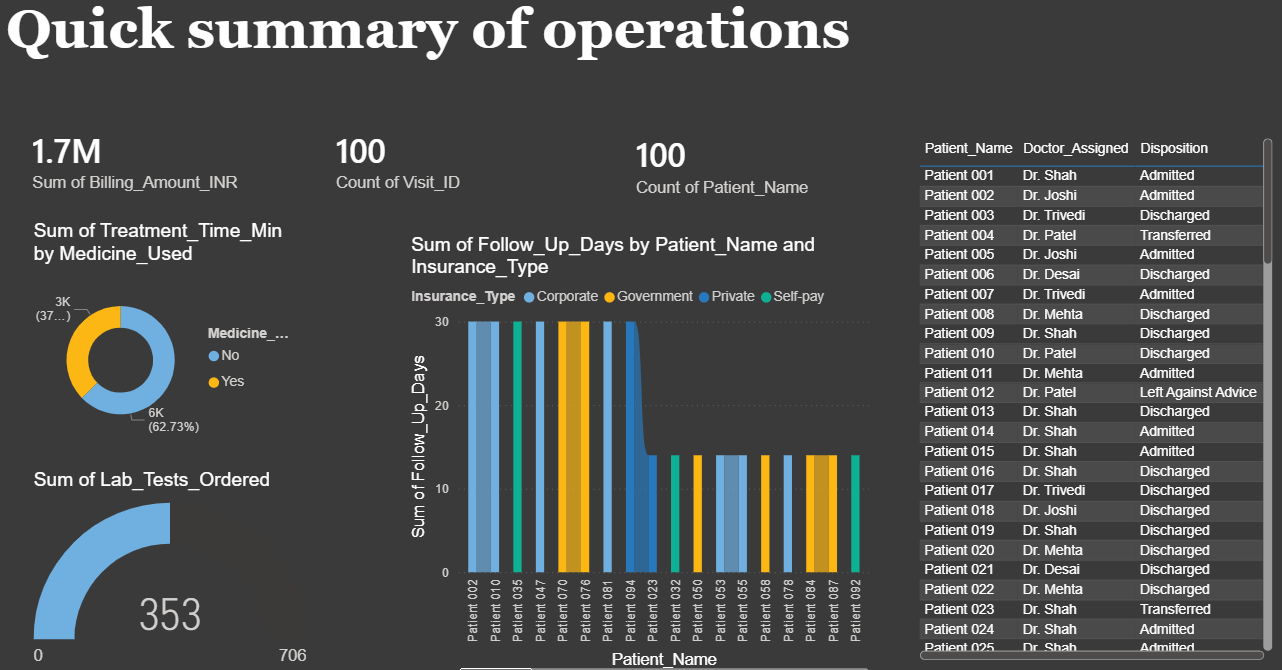

Layout of this report page (visuals, bound fields, positions):
{"tool":"powerbi","page":{"name":"Page 1","canvas":[1280,720],"ordinal":0},"visuals":[{"type":"textbox","box":[10,0,279.8,108.5],"z":0},{"type":"textbox","box":[10,54.2,1231.8,79.9],"z":1000},{"type":"cardVisual","fields":{"Data":["Sum(Sheet1 (2).Billing_Amount_INR)"]},"box":[9.9,155.3,259.7,118.1],"z":2000},{"type":"cardVisual","box":[9.9,376.5,259.7,149.1],"z":3000},{"type":"cardVisual","fields":{"Data":["Count(Sheet1 (2).Visit_ID)"]},"box":[303.2,155.3,259.7,118.1],"z":4000},{"type":"cardVisual","fields":{"Data":["CountNonNull(Sheet1 (2).Patient_Name)"]},"box":[592.8,166.5,228.7,106.9],"z":5000},{"type":"ribbonChart","fields":{"Category":["Sheet1 (2).Patient_Name"],"Series":["Sheet1 (2).Insurance_Type"],"Y":["Sum(Sheet1 (2).Follow_Up_Days)"]},"box":[400.2,287.1,452.3,432.5],"z":6000},{"type":"gauge","fields":{"Y":["Sum(Sheet1 (2).Lab_Tests_Ordered)"]},"box":[36,514.5,273.4,205],"z":7000},{"type":"donutChart","fields":{"Series":["Sheet1 (2).Medicine_Used"],"Y":["Sum(Sheet1 (2).Treatment_Time_Min)"]},"box":[36,273.4,267.2,229.9],"z":8000},{"type":"slicer","fields":{"Values":["Sheet1.Admission_Ward","Sheet1.Patient_Name","Sheet1.Bed_Occupied"]},"box":[872.3,133.9,377.6,556.2],"z":9000}]}

Visuals, with their boxes on the page's 1280x720 design canvas (x1, y1, x2, y2). These are canvas units, not pixel positions in the 1282x670 screenshot, which may show the page scaled, cropped or inside an application window:
textbox: {"left": 10, "top": 0, "right": 290, "bottom": 108}
textbox: {"left": 10, "top": 54, "right": 1242, "bottom": 134}
cardVisual - Sum(Sheet1 (2).Billing_Amount_INR): {"left": 10, "top": 155, "right": 270, "bottom": 273}
cardVisual: {"left": 10, "top": 376, "right": 270, "bottom": 526}
cardVisual - Count(Sheet1 (2).Visit_ID): {"left": 303, "top": 155, "right": 563, "bottom": 273}
cardVisual - CountNonNull(Sheet1 (2).Patient_Name): {"left": 593, "top": 166, "right": 822, "bottom": 273}
ribbonChart - Sheet1 (2).Patient_Name x Sheet1 (2).Insurance_Type: {"left": 400, "top": 287, "right": 852, "bottom": 720}
gauge - Sum(Sheet1 (2).Lab_Tests_Ordered): {"left": 36, "top": 514, "right": 309, "bottom": 720}
donutChart - Sheet1 (2).Medicine_Used x Sum(Sheet1 (2).Treatment_Time_Min): {"left": 36, "top": 273, "right": 303, "bottom": 503}
slicer - Sheet1.Admission_Ward x Sheet1.Patient_Name: {"left": 872, "top": 134, "right": 1250, "bottom": 690}
